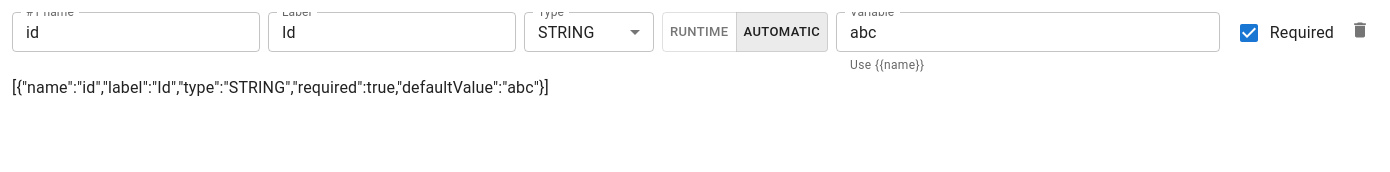
Test: Runtime parameter mode › infers Runtime from a blank variable and clears the variable when switched to Runtime
Step 1. Click the button with aria-label "parameter 1 runtime" → [699, 32], box [662,12,737,52]
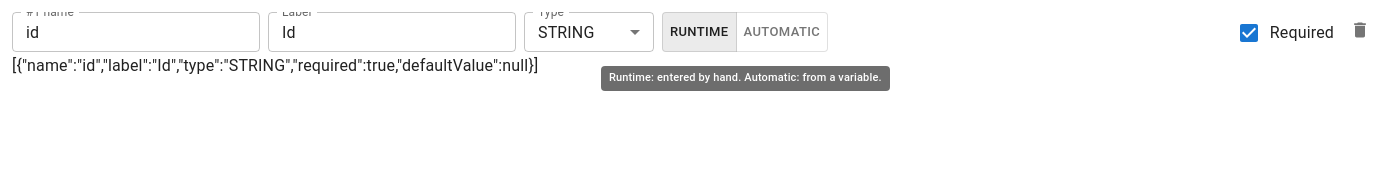
expect the text with test id "out" shows "\"defaultValue\":null": met, box [12,56,538,75]
